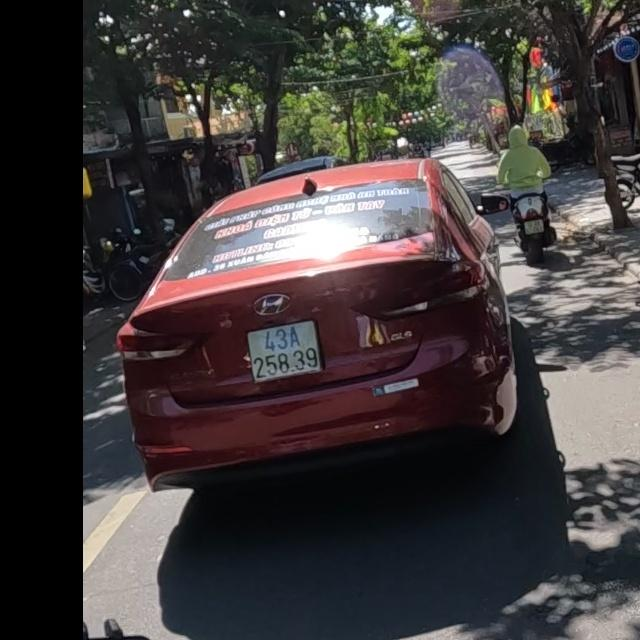license-plate: (245, 319, 324, 384)
